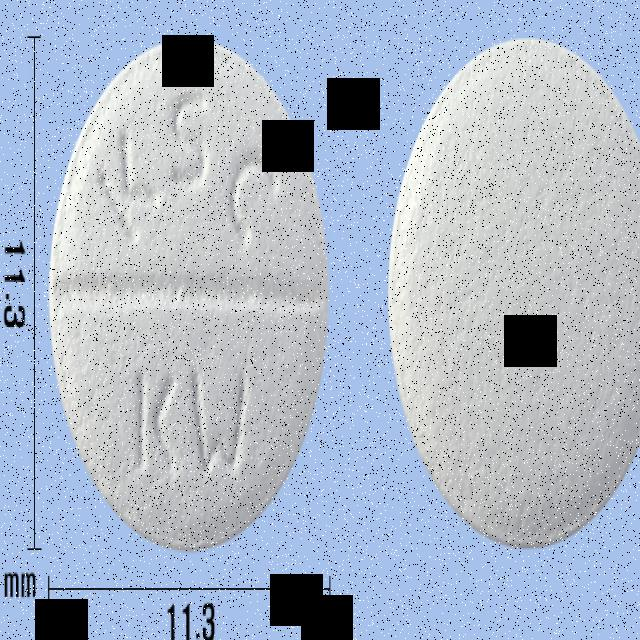K-Sacin: (48, 38, 330, 552)
